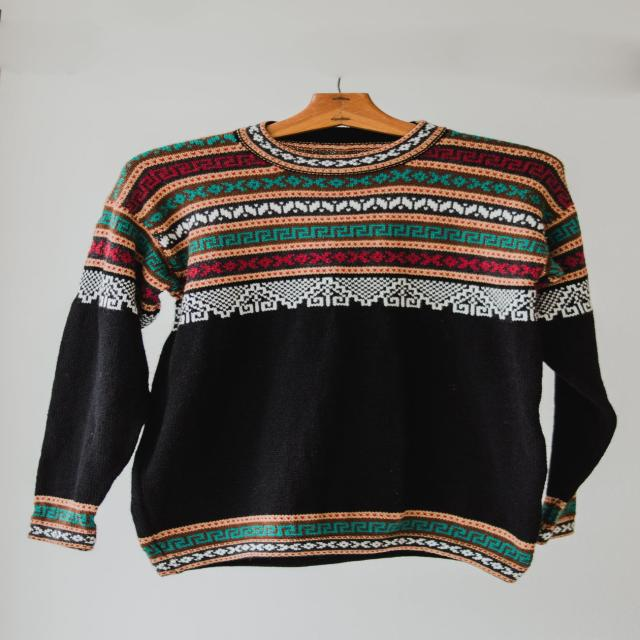Chompa: (29, 96, 618, 582)
